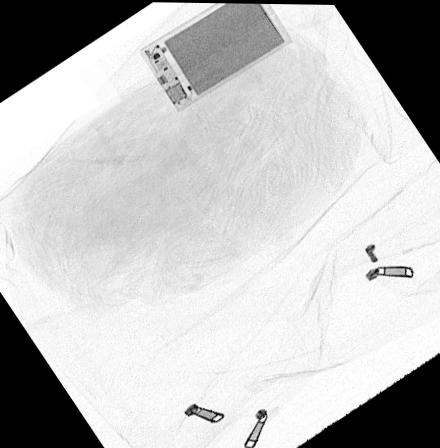Powerbank: (139, 2, 294, 113)
